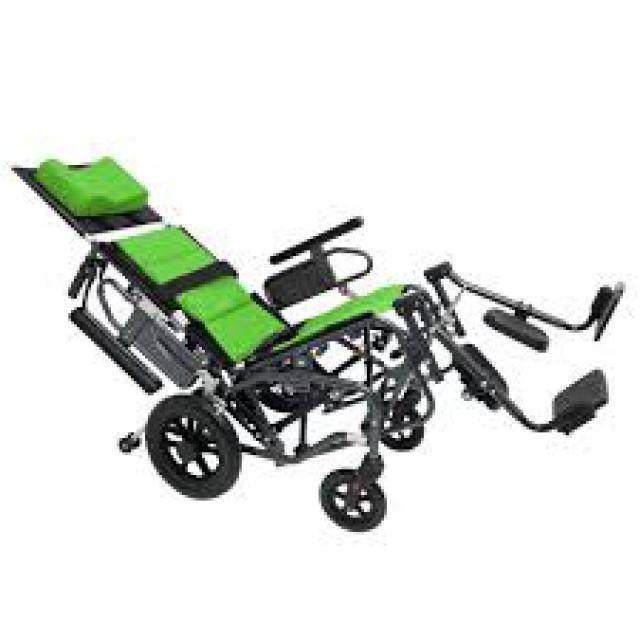wheelchairs: (13, 154, 626, 536)
